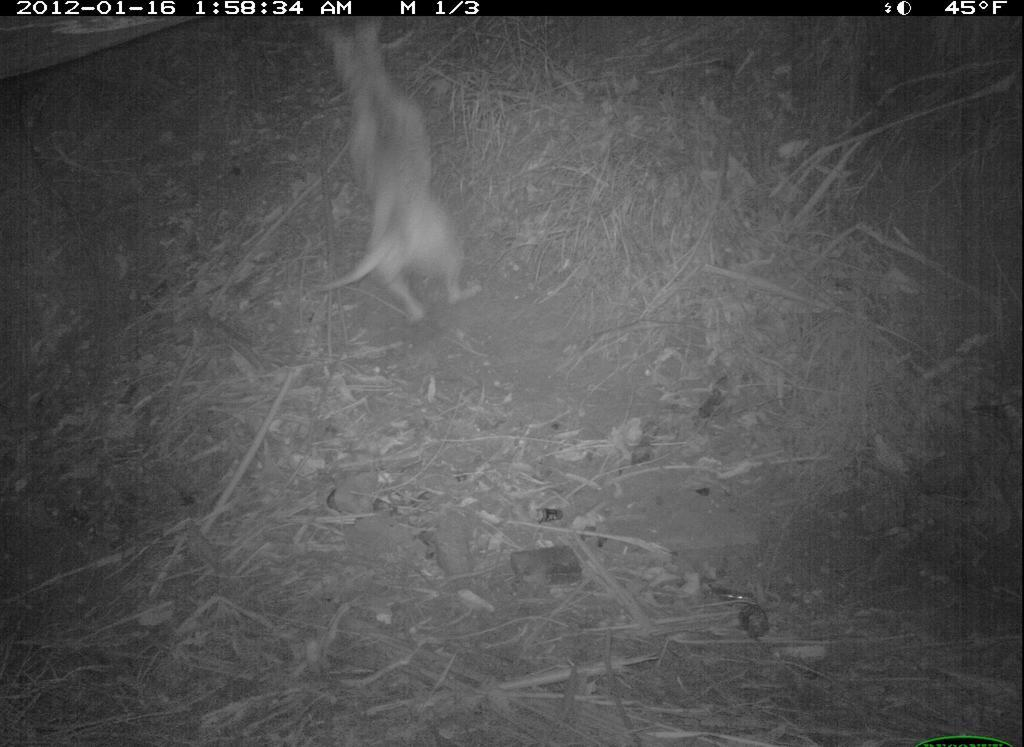dog: (291, 20, 509, 323)
